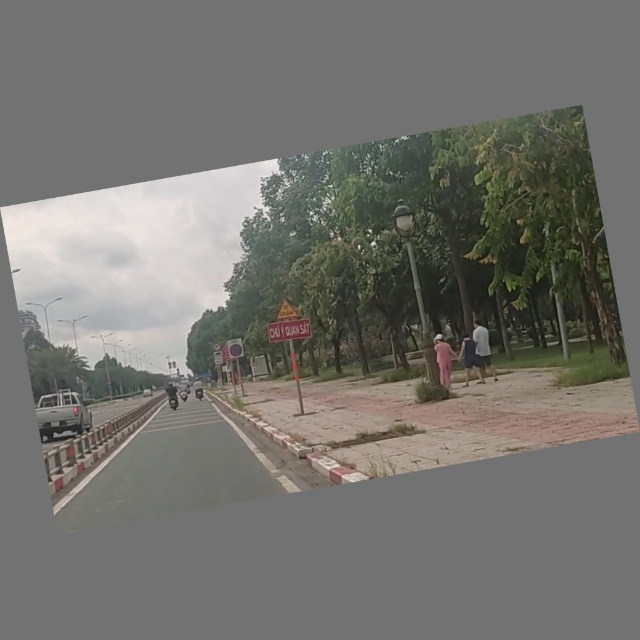P.123b: (212, 344, 221, 352)
P.130: (225, 338, 246, 360)
S.505a*Xe tai: (212, 350, 225, 367)
W.245a: (272, 296, 302, 324)
